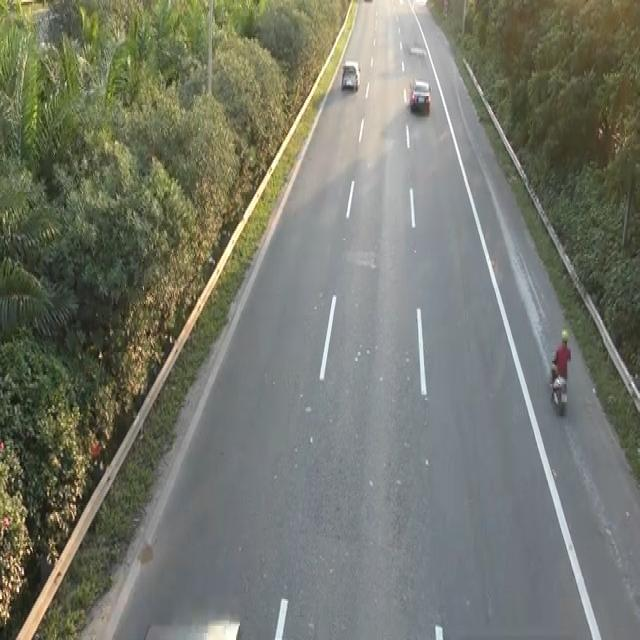bus: (408, 76, 432, 114), (340, 58, 361, 92)
minibus: (548, 359, 569, 416)
